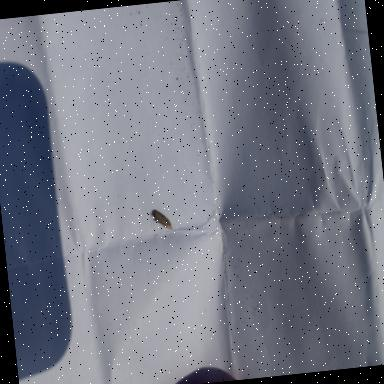pbw: (149, 207, 173, 232)
